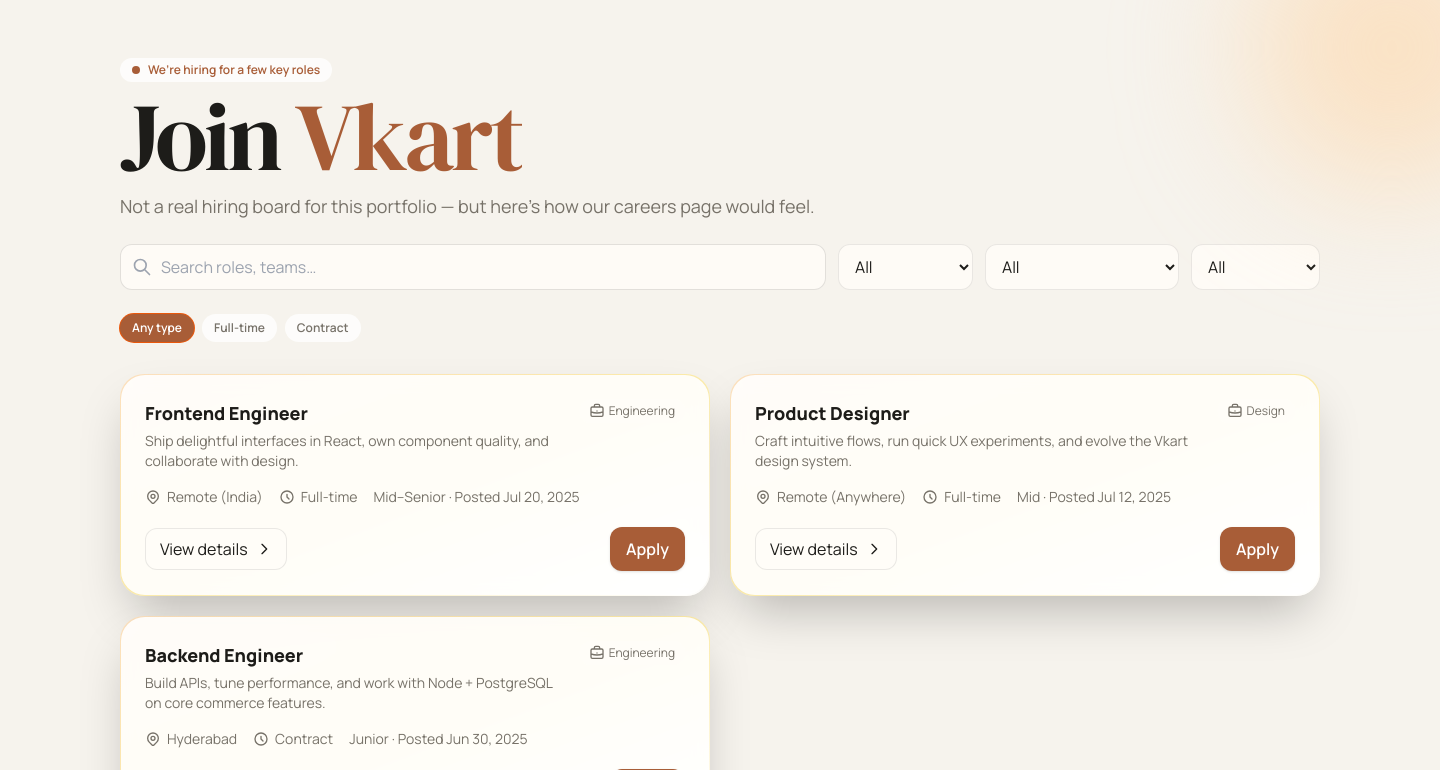
Careers Component › shows an empty state when no roles match
Type "nonexistent-role-xyz" into the field with placeholder "Search roles, teams…".
click(473, 267); type("nonexistent-role-xyz")  # box left=120, top=244, right=826, bottom=290
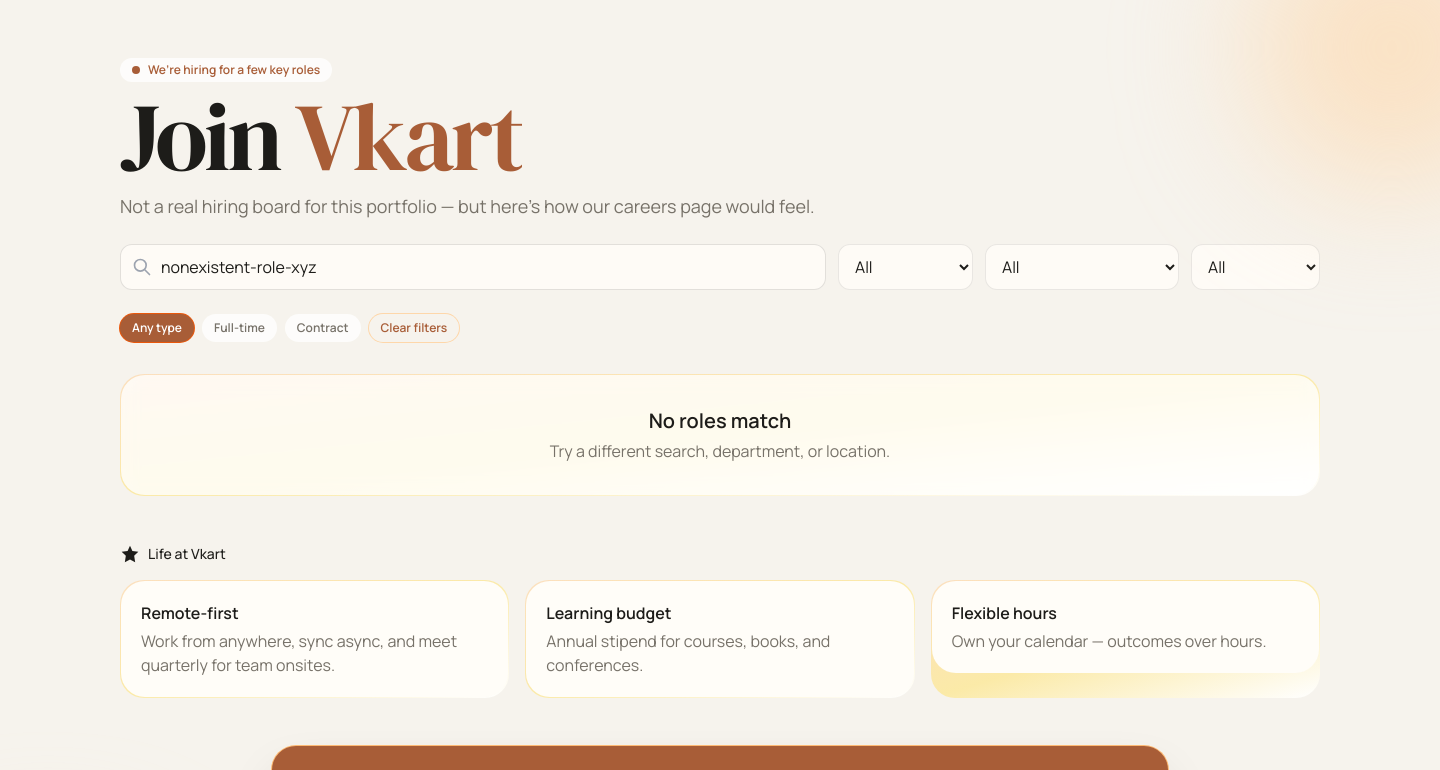
Expected: the heading "No roles match" is shown, left=649, top=407, right=791, bottom=434
